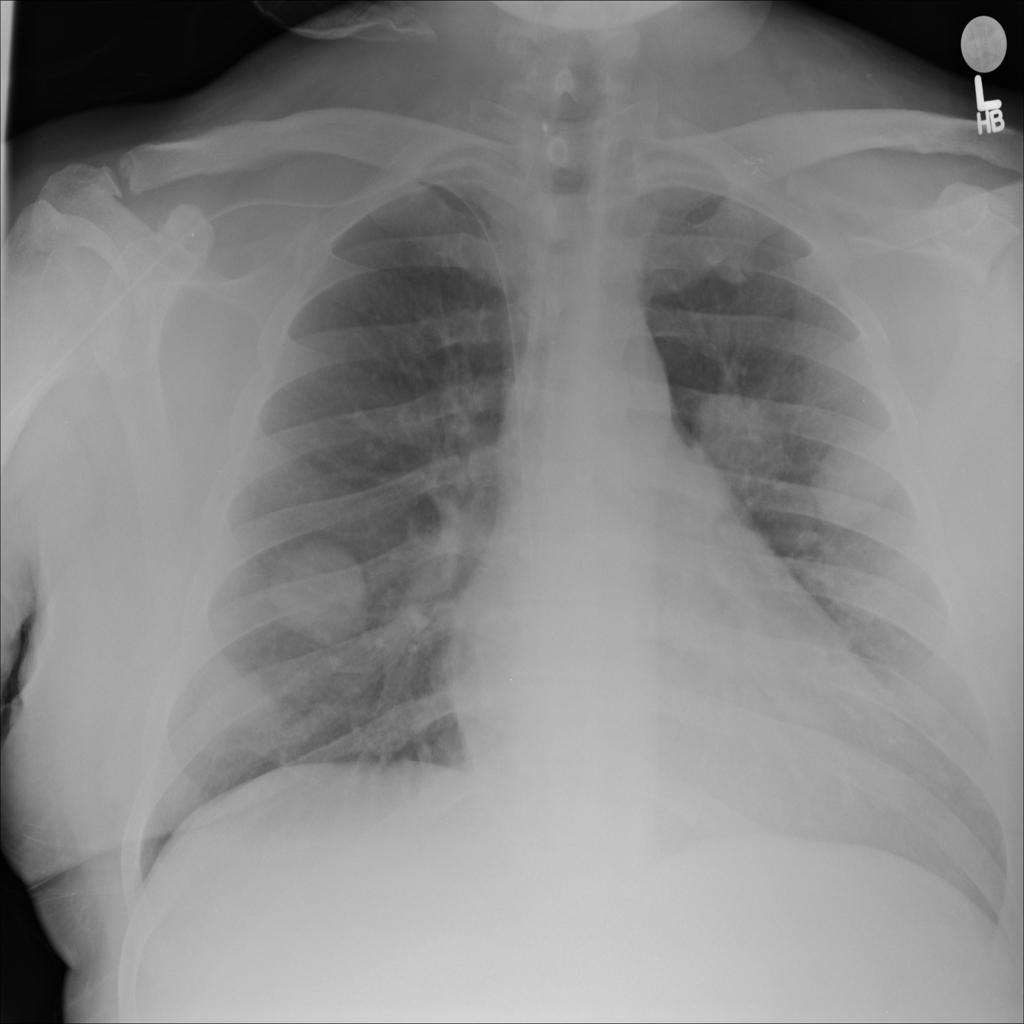nodule: (253, 528, 384, 655), (165, 650, 298, 775), (684, 380, 802, 502), (803, 423, 906, 538)
